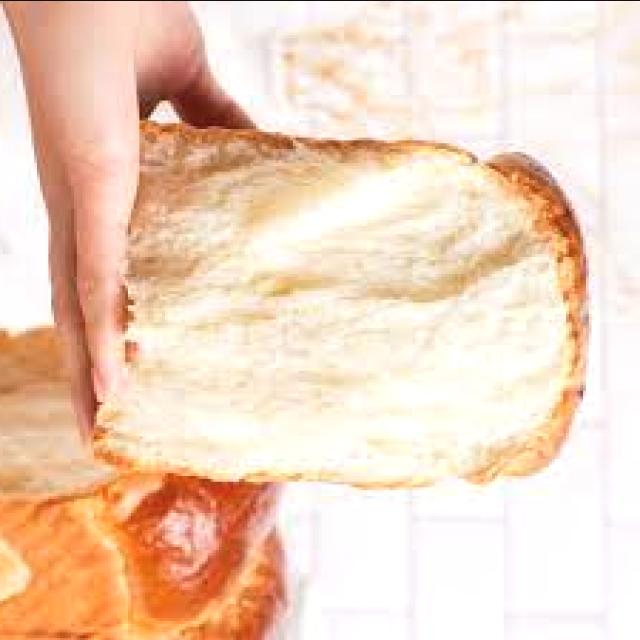roti tawar: (88, 100, 589, 495)
